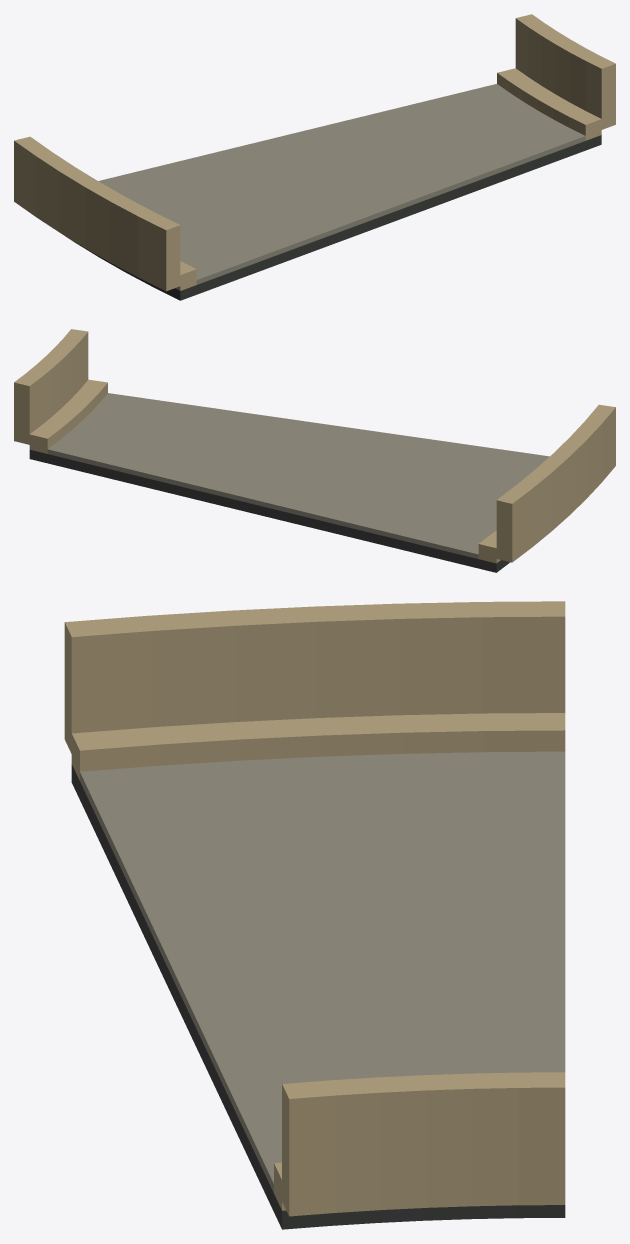
The model's file is road_curve_guarded_left_11_25.fbx.
3 renders of one model, top to bottom at view 1: azimuth 30°, elevation 25°; view 2: azimuth 150°, elevation 25°; view 3: azimuth 270°, elevation 25°, orthographic. The views are drawn at different scales.
Visible parts, largest first — view 1: Concrete curve.001, Curved parapet.003, Curved parapet.002, Curve base.001, Curved curb.002, Curved curb.003; view 2: Concrete curve.001, Curved parapet.003, Curved parapet.002, Curve base.001, Curved curb.002, Curved curb.003; view 3: Concrete curve.001, Curved parapet.003, Curved parapet.002, Curved curb.003, Curve base.001.
Boxes of the visible parts, box(x1,y1,x2,y2) form: Concrete curve.001: box(98, 84, 585, 284); Curved parapet.003: box(14, 136, 180, 291); Curved parapet.002: box(515, 14, 615, 129); Curve base.001: box(65, 135, 601, 300); Curved curb.002: box(497, 68, 601, 140); Curved curb.003: box(175, 261, 196, 290); Concrete curve.001: box(47, 393, 549, 558); Curved parapet.003: box(496, 404, 615, 562); Curved parapet.002: box(14, 329, 88, 444); Curve base.001: box(29, 450, 509, 572); Curved curb.002: box(29, 379, 107, 453); Curved curb.003: box(478, 530, 500, 563); Concrete curve.001: box(80, 751, 565, 1192); Curved parapet.003: box(64, 601, 565, 753); Curved parapet.002: box(282, 1072, 565, 1216); Curved curb.003: box(71, 713, 565, 780); Curve base.001: box(71, 764, 565, 1229).
Size of the model in its own units: 90898 by 38628 by 12400.
